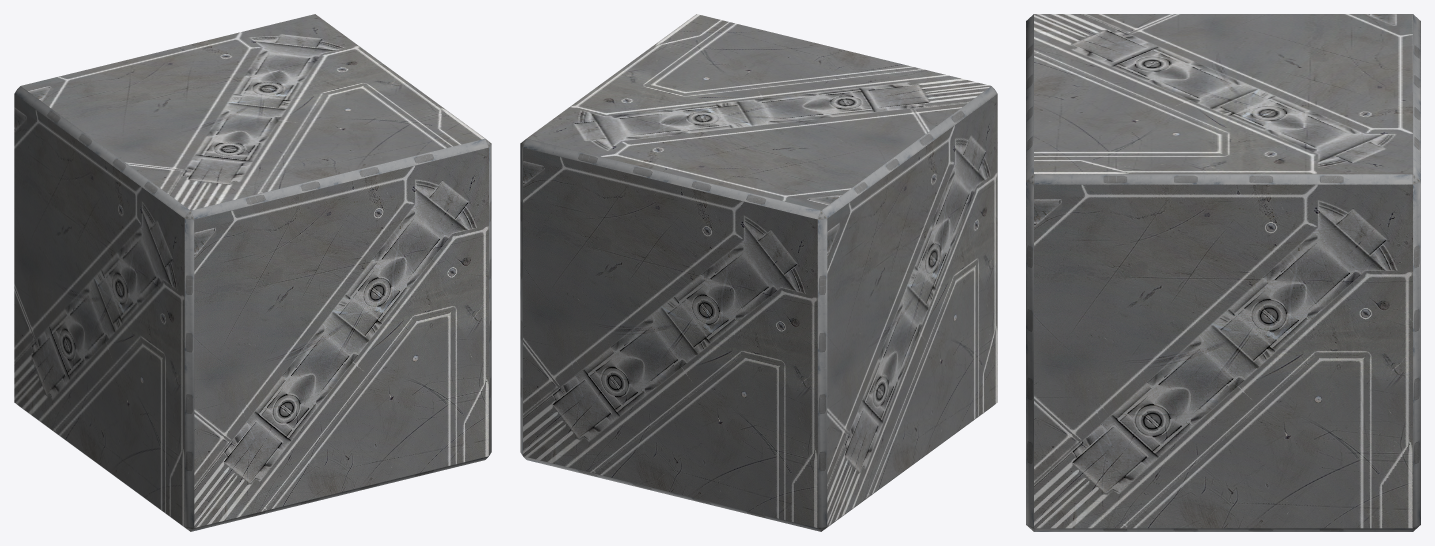
Rendered from SM_Crate4.fbx.
The picture shows the model from 3 angles, left to right: view 1: azimuth 30°, elevation 25°; view 2: azimuth 150°, elevation 25°; view 3: azimuth 270°, elevation 25°; orthographic projection. The views are drawn at different scales.
Visible parts, largest first — view 1: SM_Crate4_LOD0; view 2: SM_Crate4_LOD0; view 3: SM_Crate4_LOD0.
Boxes of the visible parts, x1=… form: SM_Crate4_LOD0: x1=14, y1=14, x2=491, y2=531; SM_Crate4_LOD0: x1=520, y1=14, x2=997, y2=531; SM_Crate4_LOD0: x1=1026, y1=14, x2=1420, y2=531.
Bounding box in the file's own units: 100 × 100 × 100.
Materials: 2 (2 with a texture image).
